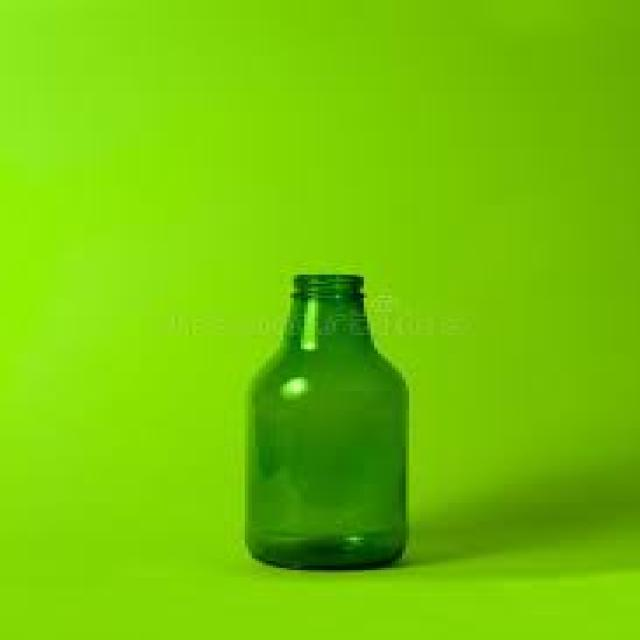glass: (241, 272, 406, 570)
